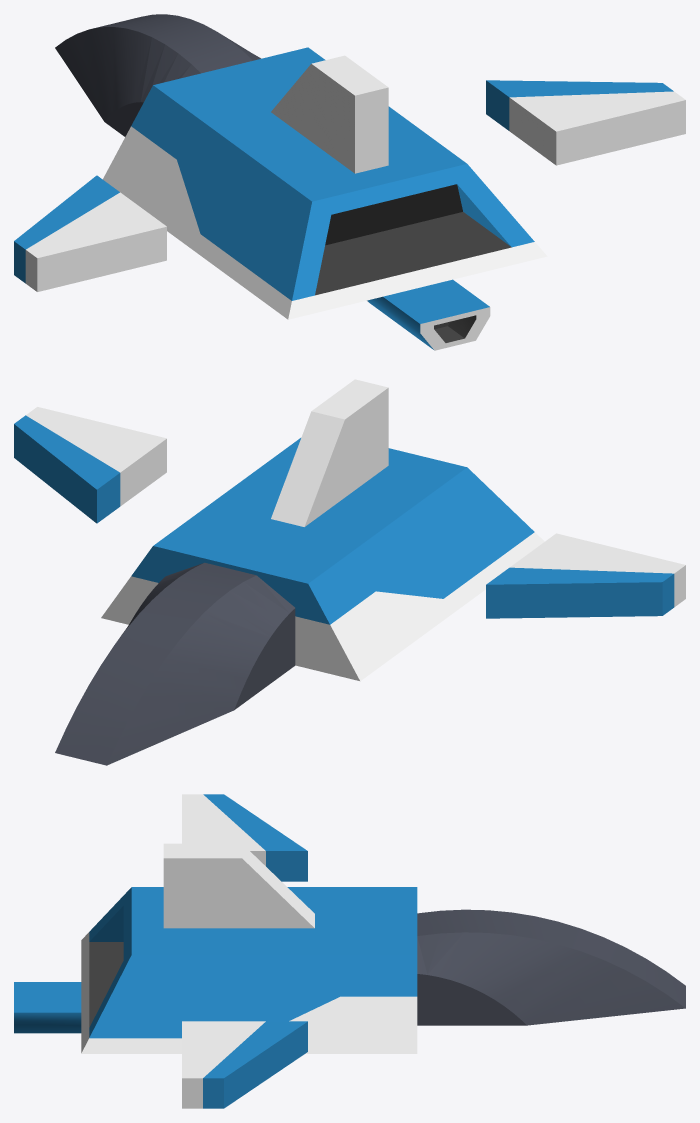
Rendered from Enemy Ship - Normal.fbx.
3 renders of one model, top to bottom at view 1: azimuth 30°, elevation 25°; view 2: azimuth 150°, elevation 25°; view 3: azimuth 270°, elevation 25°, orthographic. The views are drawn at different scales.
Parts seen in each view (by area): view 1: engine_intake_1, wing_endLong_3, glass_curved_0, wing_endLong_2, plane_rudder_4, engine_barrelTop_5; view 2: engine_intake_1, glass_curved_0, wing_endLong_2, wing_endLong_3, plane_rudder_4; view 3: engine_intake_1, glass_curved_0, plane_rudder_4, wing_endLong_3, wing_endLong_2, engine_barrelTop_5.
Boxes of the visible parts, <box> form: engine_intake_1: <box>103,47,547,319</box>; wing_endLong_3: <box>486,80,685,165</box>; glass_curved_0: <box>55,14,260,136</box>; wing_endLong_2: <box>14,175,166,291</box>; plane_rudder_4: <box>271,55,388,173</box>; engine_barrelTop_5: <box>366,279,490,350</box>; engine_intake_1: <box>101,438,544,681</box>; glass_curved_0: <box>55,562,295,765</box>; wing_endLong_2: <box>486,533,685,618</box>; wing_endLong_3: <box>14,407,166,523</box>; plane_rudder_4: <box>271,379,388,526</box>; engine_intake_1: <box>81,887,417,1053</box>; glass_curved_0: <box>417,909,685,1025</box>; plane_rudder_4: <box>163,843,314,928</box>; wing_endLong_3: <box>182,1021,307,1108</box>; wing_endLong_2: <box>182,794,307,881</box>; engine_barrelTop_5: <box>14,982,81,1033</box>.
Size of the model in its own units: 20 by 5.69 by 20.
